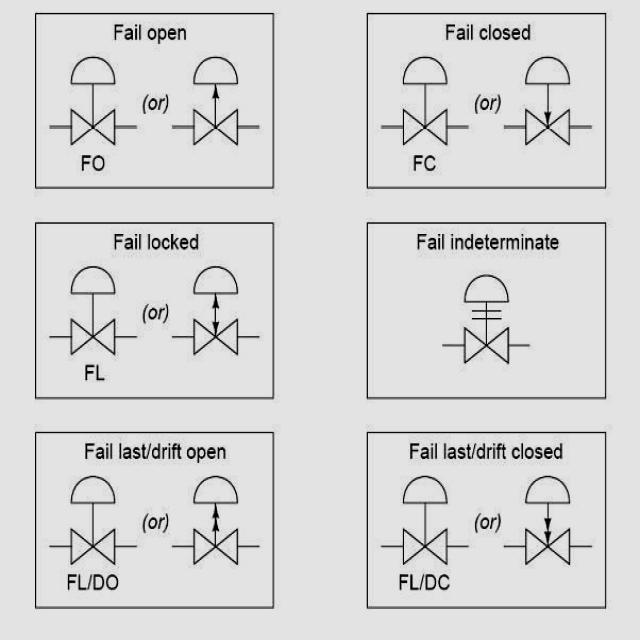Fail Closed Safe Position: (517, 45, 576, 149)
Fail Indeterminate Safe Position: (450, 270, 526, 370)
Fail Lock Safe Position: (179, 254, 255, 376)
Fail Open Safe Position: (181, 49, 248, 159)
